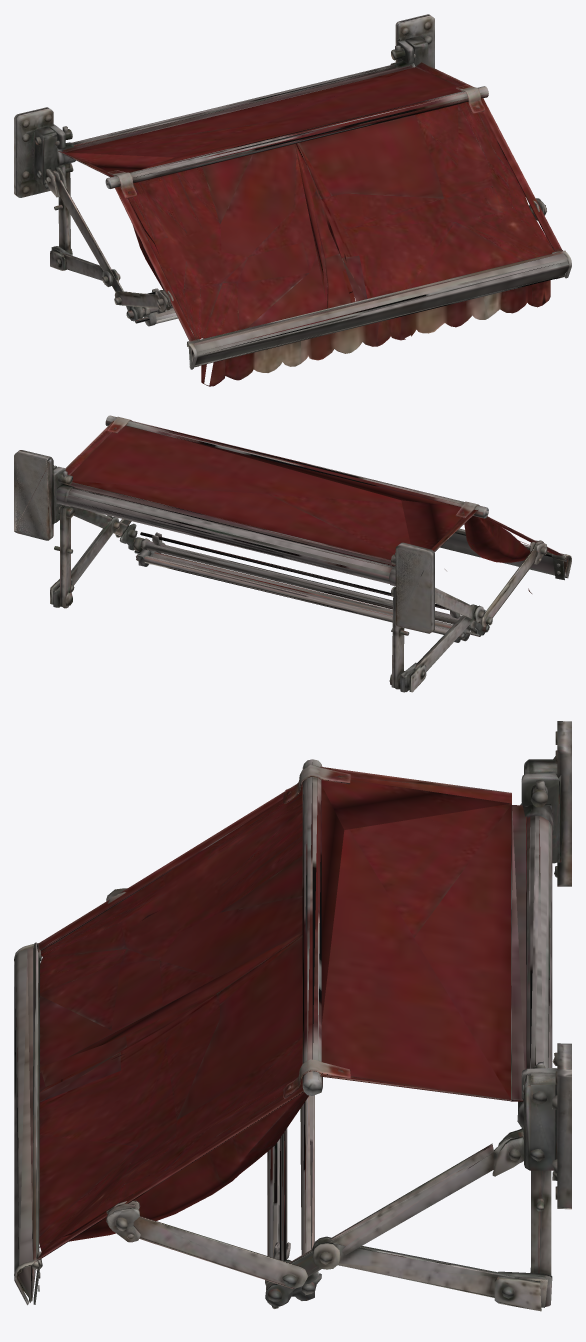
File: awning.glb
The picture shows the model from 3 angles, top to bottom: view 1: azimuth 30°, elevation 25°; view 2: azimuth 150°, elevation 25°; view 3: azimuth 270°, elevation 25°; orthographic projection. The views are drawn at different scales.
Parts seen in each view (by area): view 1: awning; view 2: awning; view 3: awning.
Boxes of the visible parts, x1,y1,x2,y2 form: awning: (14, 14, 571, 386); awning: (14, 415, 571, 692); awning: (14, 721, 571, 1311).
Size of the model in its own units: 3.2 by 1.25 by 2.14.
Materials: 1 (1 with a texture image).
